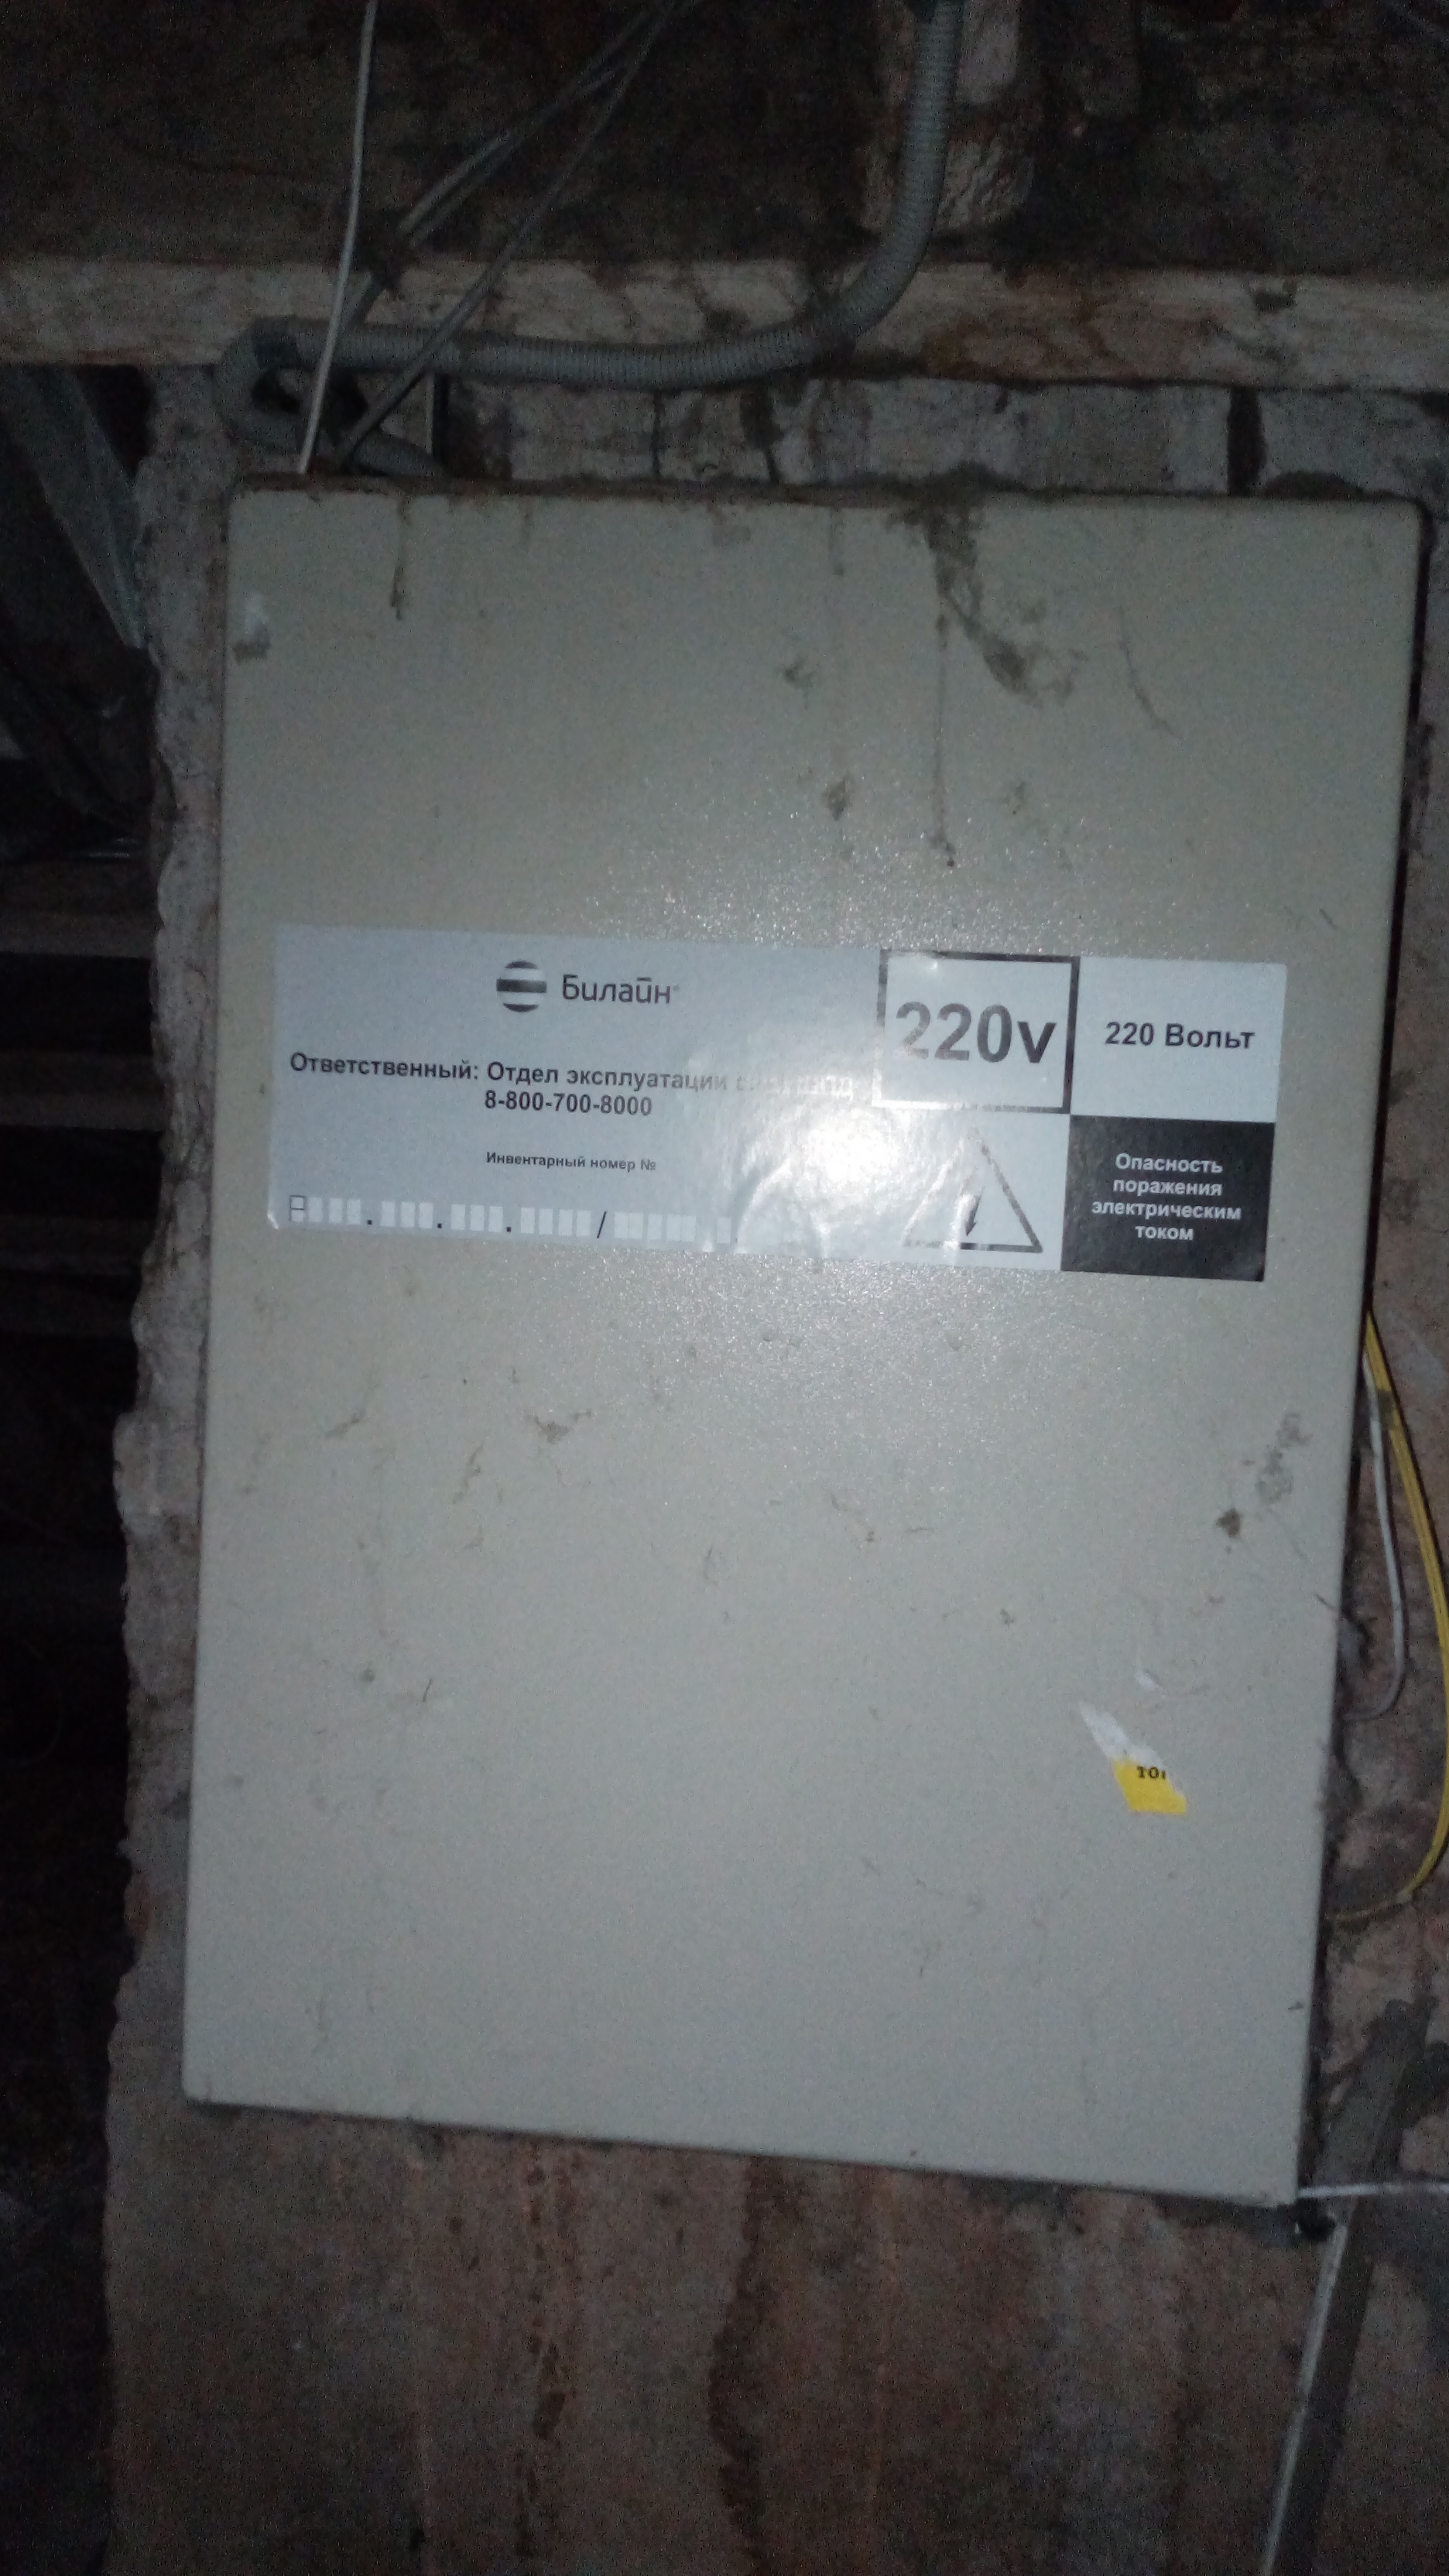sv-5: (143, 465, 1431, 2231)
